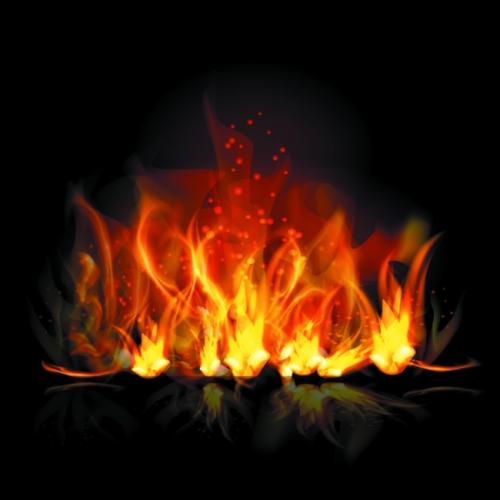fire: (80, 179, 425, 369)
